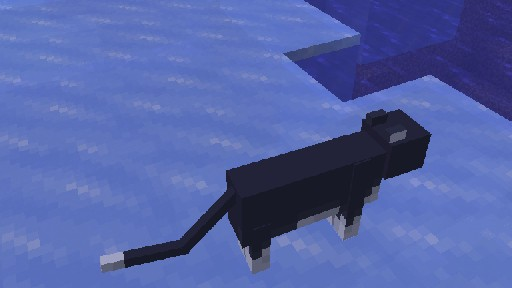cat: (99, 108, 431, 274)
